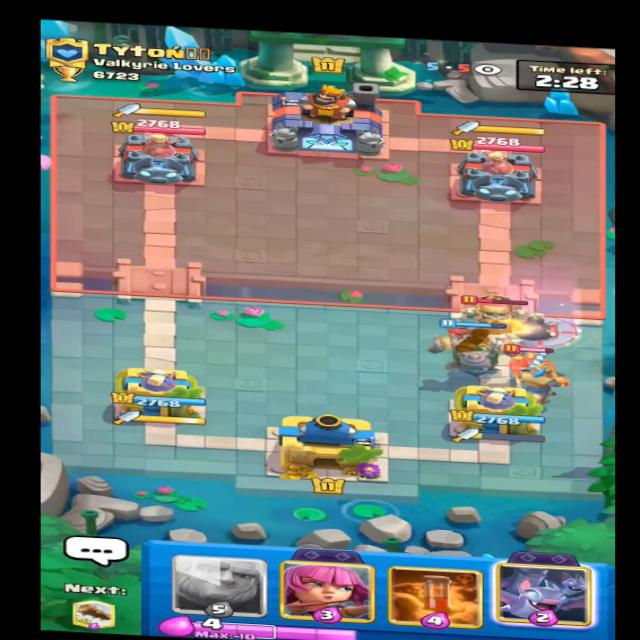giant-skeleton: (436, 284, 560, 350)
hog-rider: (497, 342, 577, 397)
